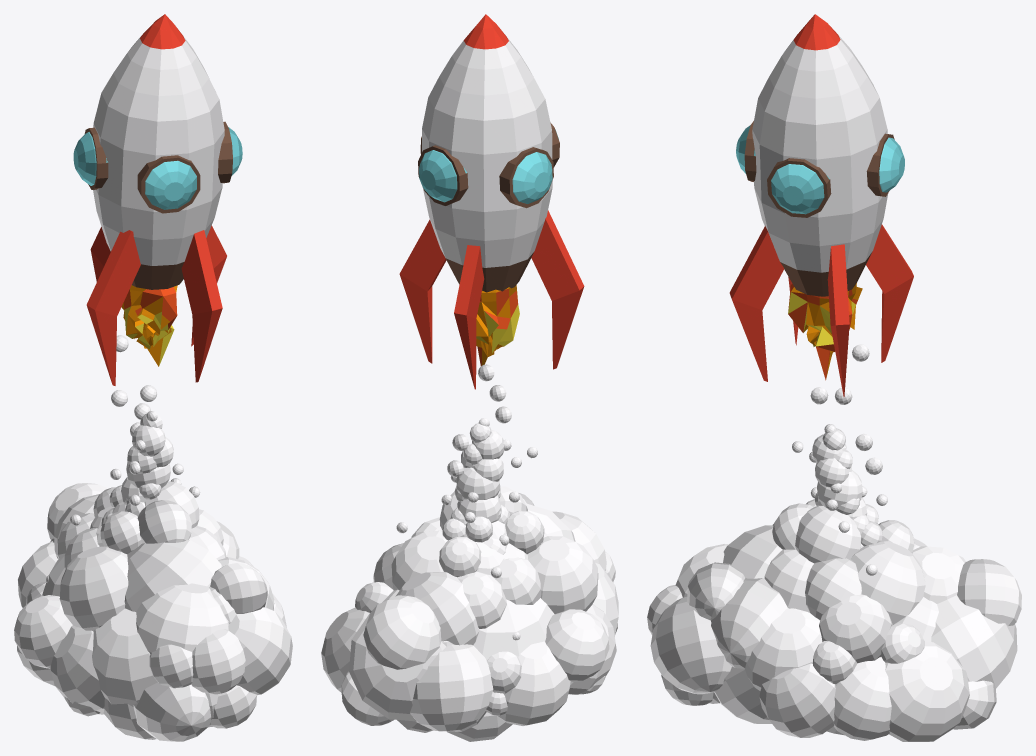
The model's file is rocket.glb.
3 renders of one model, left to right at view 1: azimuth 30°, elevation 25°; view 2: azimuth 150°, elevation 25°; view 3: azimuth 270°, elevation 25°, orthographic. The views are drawn at different scales.
Parts seen in each view (by area): view 1: Node; view 2: Node; view 3: Node.
Part boxes in pixels (bbox=[...]): Node: bbox=[14, 14, 292, 741]; Node: bbox=[321, 14, 618, 741]; Node: bbox=[647, 14, 1021, 741].
Bounding box in the file's own units: 0.491 × 1.35 × 0.6365.
1 material, 1 textured.
